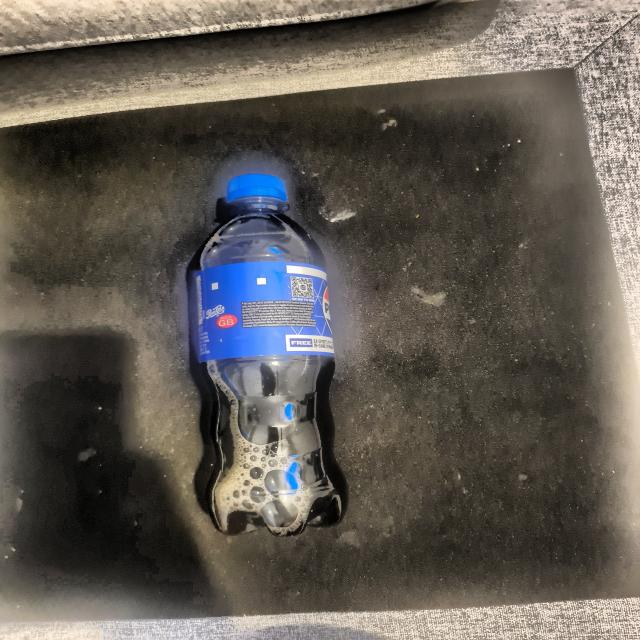pepsi-bottle: (190, 178, 360, 535)
